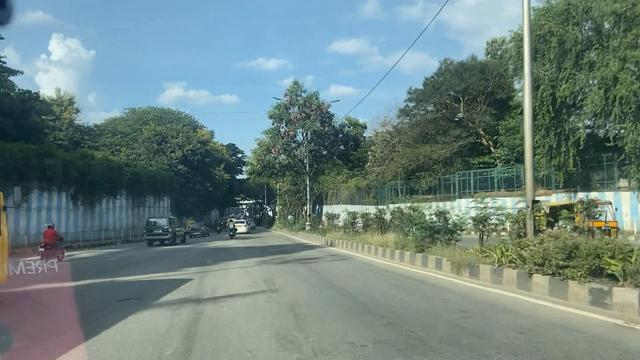LMV: (141, 216, 186, 248), (40, 215, 67, 263)
RoadDamages: (104, 295, 149, 321)
